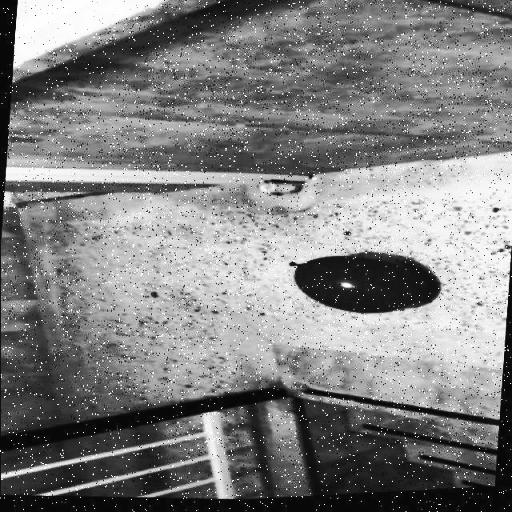balloon: (270, 244, 442, 328)
